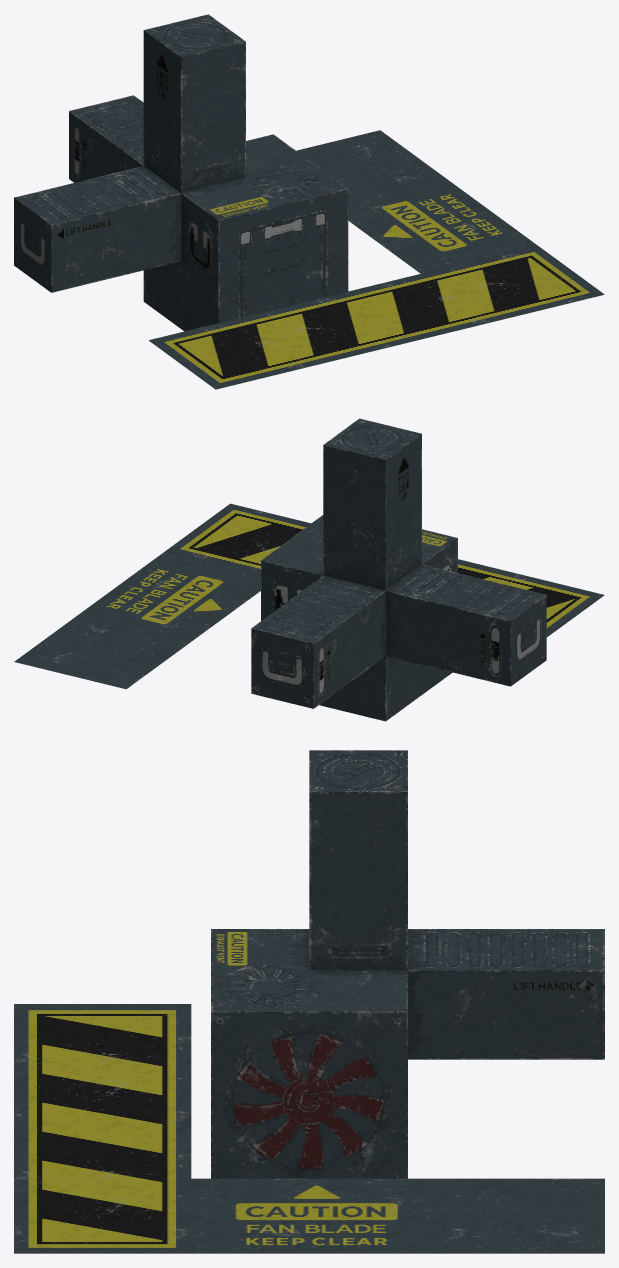
Rendered from Node_Attribute_02.gltf.
3 renders of one model, top to bottom at view 1: azimuth 30°, elevation 25°; view 2: azimuth 150°, elevation 25°; view 3: azimuth 270°, elevation 25°, orthographic. The views are drawn at different scales.
Parts seen in each view (by area): view 1: Node1, Node0; view 2: Node1, Node0; view 3: Node1, Node0.
Boxes of the visible parts, x1=… form: Node1: x1=14, y1=14, x2=348, y2=331; Node0: x1=149, y1=130, x2=604, y2=389; Node1: x1=251, y1=418, x2=546, y2=721; Node0: x1=14, y1=503, x2=604, y2=689; Node1: x1=211, y1=750, x2=604, y2=1178; Node0: x1=14, y1=1004, x2=604, y2=1253.
Bounding box in the file's own units: 17 × 10 × 15.
2 materials, 2 textured.
